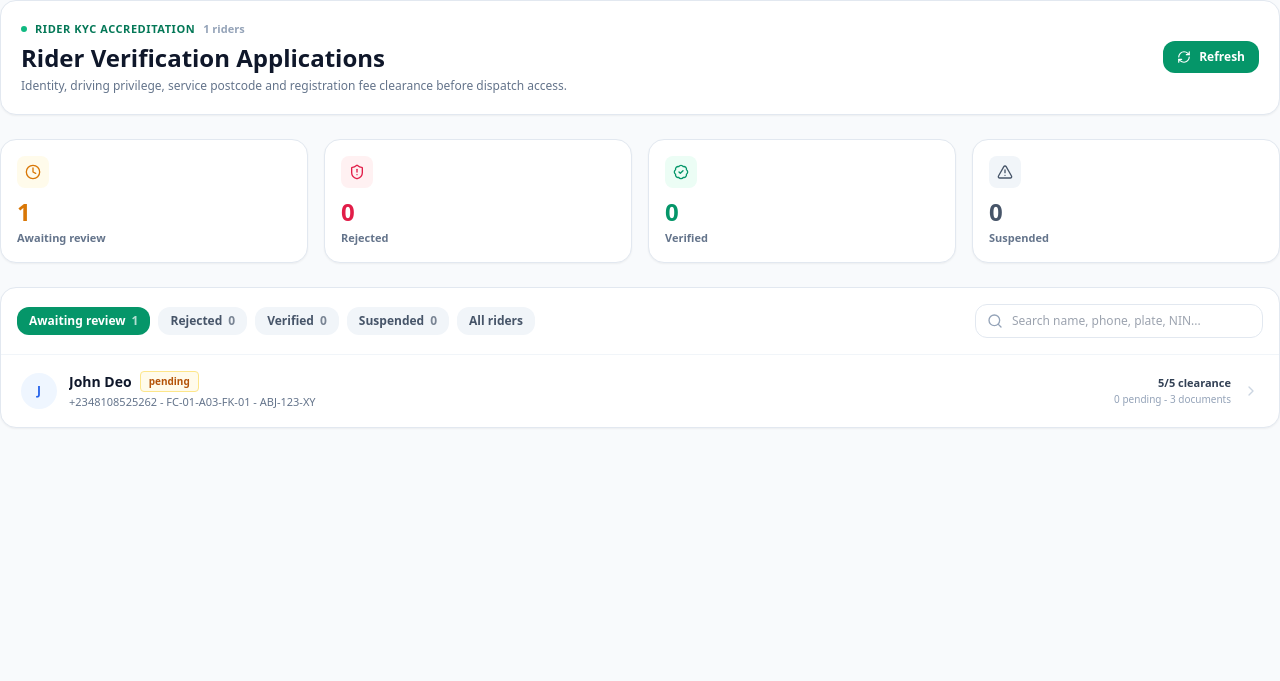
RiderApplicationsPanel › grants the approve action once every item is evidenced and approved
Click the text "John Deo" at point(100, 382), box [69,372,132,392]
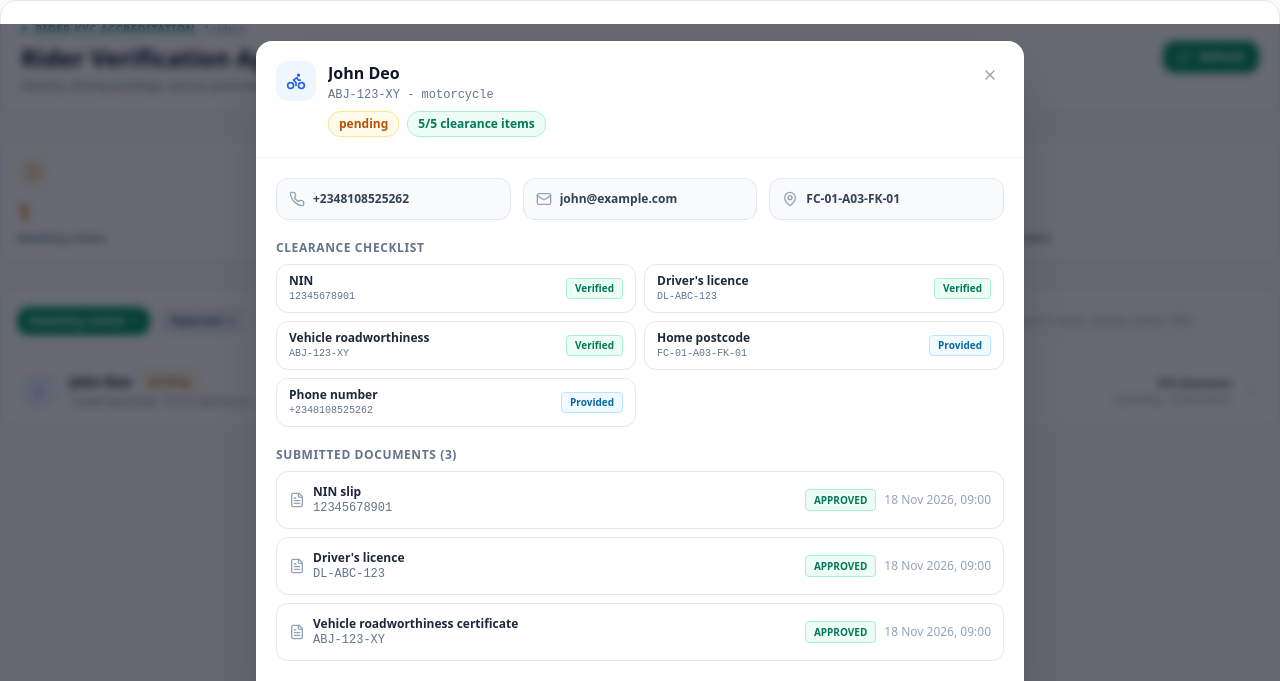
Expected: the text "Verified" is shown 3 times, [566,278,623,299]; [934,278,991,299]; [566,335,623,356]
Expected: the text "5/5 clearance items" is shown, [407,111,546,137]
